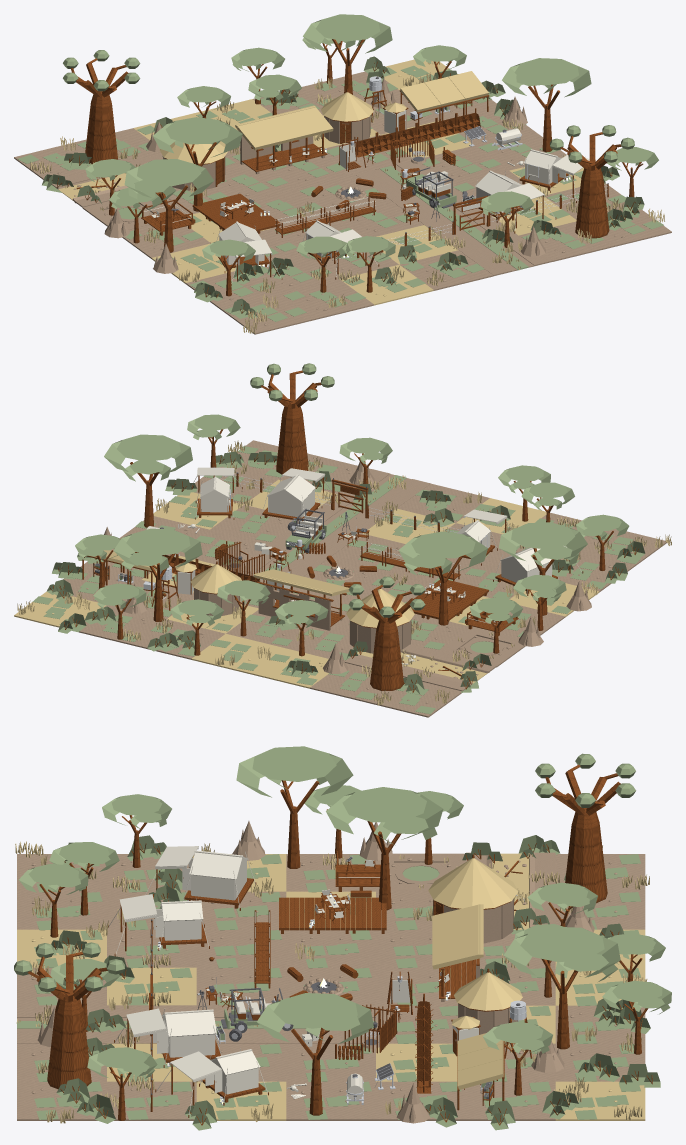
Rendered from safari-camp-and-bush-lodge-tented-safari-5f4f91f6-starter-scene__37720.glb.
3 renders of one model, top to bottom at view 1: azimuth 30°, elevation 25°; view 2: azimuth 150°, elevation 25°; view 3: azimuth 270°, elevation 25°, orthographic. The views are drawn at different scales.
Parts seen in each view (by area): view 1: 153-baobab-tree/baobab-tree-timber, 049-lodge-main-building-front/lodge-main-building-front-that, 152-baobab-tree/baobab-tree-timber, 150-acacia-tree-large/acacia-tree-large-scrub, 151-acacia-tree-large/acacia-tree-large-scrub, 149-acacia-tree-large/acacia-tree-large-scrub, 071-acacia-tree-large/acacia-tree-large-scrub, 013-savanna-ground-module/savanna-ground-module-earth, 006-savanna-ground-module/savanna-ground-module-earth, 025-savanna-ground-module/savanna-ground-module-earth, 020-savanna-ground-module-grass/savanna-ground-module-grass-, 038-savanna-ground-module/savanna-ground-module-earth (+70 smaller); view 2: 151-acacia-tree-large/acacia-tree-large-scrub, 152-baobab-tree/baobab-tree-timber, 149-acacia-tree-large/acacia-tree-large-scrub, 150-acacia-tree-large/acacia-tree-large-scrub, 071-acacia-tree-large/acacia-tree-large-scrub, 153-baobab-tree/baobab-tree-timber, 021-savanna-ground-module-grass/savanna-ground-module-grass- (×2), 106-safari-tent-large-open/safari-tent-large-open-canvas, 002-water-hole-edge/water-hole-edge-earth, 000-savanna-ground-module/savanna-ground-module-earth, 039-savanna-ground-module/savanna-ground-module-earth, 033-track-module-with-ruts/track-module-with-ruts-earth (+62 smaller); view 3: 071-acacia-tree-large/acacia-tree-large-scrub, 149-acacia-tree-large/acacia-tree-large-scrub, 153-baobab-tree/baobab-tree-timber, 152-baobab-tree/baobab-tree-timber, 151-acacia-tree-large/acacia-tree-large-scrub, 150-acacia-tree-large/acacia-tree-large-scrub, 042-savanna-ground-module-grass/savanna-ground-module-grass- (×2), 054-thatched-rondavel-large/thatched-rondavel-large-thatch, 026-savanna-ground-module-grass/savanna-ground-module-grass- (×2), 049-lodge-main-building-front/lodge-main-building-front-that, 046-savanna-ground-module-grass/savanna-ground-module-grass- (×2), 017-savanna-ground-module/savanna-ground-module-earth (+110 smaller).
Part boxes in pixels (x1,y1,x2,y2): 153-baobab-tree/baobab-tree-timber: (560, 132, 621, 238); 049-lodge-main-building-front/lodge-main-building-front-that: (235, 105, 333, 150); 152-baobab-tree/baobab-tree-timber: (70, 58, 128, 164); 150-acacia-tree-large/acacia-tree-large-scrub: (124, 159, 213, 200); 151-acacia-tree-large/acacia-tree-large-scrub: (502, 58, 591, 97); 149-acacia-tree-large/acacia-tree-large-scrub: (303, 14, 392, 53); 071-acacia-tree-large/acacia-tree-large-scrub: (153, 117, 242, 157); 013-savanna-ground-module/savanna-ground-module-earth: (280, 279, 373, 319); 006-savanna-ground-module/savanna-ground-module-earth: (220, 294, 314, 334); 025-savanna-ground-module/savanna-ground-module-earth: (331, 200, 423, 236); 020-savanna-ground-module-grass/savanna-ground-module-grass-: (340, 265, 433, 305); 038-savanna-ground-module/savanna-ground-module-earth: (421, 145, 508, 184); 151-acacia-tree-large/acacia-tree-large-scrub: (104, 434, 192, 481); 152-baobab-tree/baobab-tree-timber: (356, 585, 413, 690); 149-acacia-tree-large/acacia-tree-large-scrub: (113, 528, 202, 573); 150-acacia-tree-large/acacia-tree-large-scrub: (499, 522, 587, 566); 071-acacia-tree-large/acacia-tree-large-scrub: (398, 531, 487, 575); 153-baobab-tree/baobab-tree-timber: (261, 370, 321, 474); 021-savanna-ground-module-grass/savanna-ground-module-grass- (×2): (191, 634, 284, 674); 106-safari-tent-large-open/safari-tent-large-open-canvas: (261, 474, 321, 517); 002-water-hole-edge/water-hole-edge-earth: (439, 627, 525, 667); 000-savanna-ground-module/savanna-ground-module-earth: (369, 677, 461, 717); 039-savanna-ground-module/savanna-ground-module-earth: (210, 504, 298, 543); 033-track-module-with-ruts/track-module-with-ruts-earth: (310, 494, 395, 533); 071-acacia-tree-large/acacia-tree-large-scrub: (326, 787, 443, 845); 149-acacia-tree-large/acacia-tree-large-scrub: (503, 926, 620, 981); 153-baobab-tree/baobab-tree-timber: (27, 952, 107, 1088); 152-baobab-tree/baobab-tree-timber: (545, 764, 620, 903); 151-acacia-tree-large/acacia-tree-large-scrub: (257, 993, 373, 1043); 150-acacia-tree-large/acacia-tree-large-scrub: (236, 746, 353, 797); 042-savanna-ground-module-grass/savanna-ground-module-grass- (×2): (555, 1081, 645, 1120); 054-thatched-rondavel-large/thatched-rondavel-large-thatch: (428, 858, 518, 908); 026-savanna-ground-module-grass/savanna-ground-module-grass- (×2): (107, 967, 196, 1005); 049-lodge-main-building-front/lodge-main-building-front-that: (432, 904, 483, 969); 046-savanna-ground-module-grass/savanna-ground-module-grass- (×2): (196, 1081, 286, 1120); 017-savanna-ground-module/savanna-ground-module-earth: (286, 930, 375, 967).
Size of the model in its own units: 46.86 by 9.03 by 43.98.
8 materials, 2 textured.
